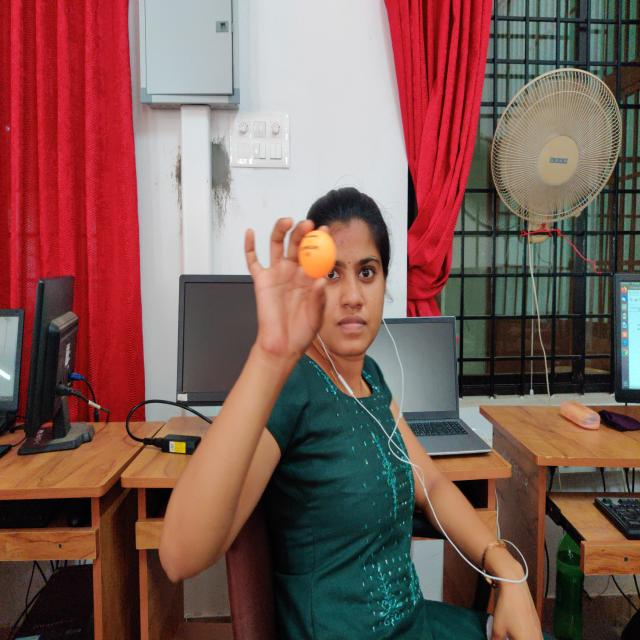orange: (299, 230, 336, 276)
